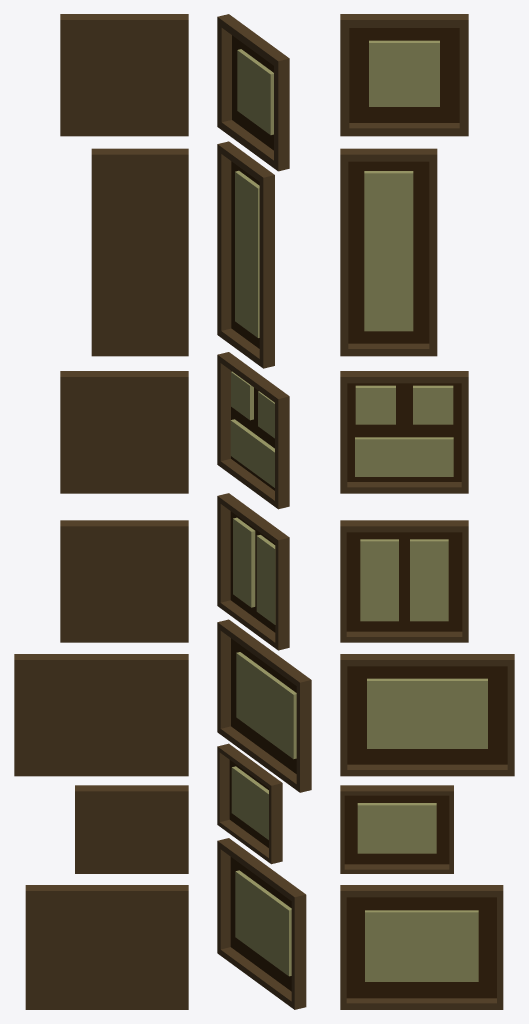
Rendered from PhotoGallery.fbx.
3 renders of one model, left to right at view 1: azimuth 90°, elevation 25°; view 2: azimuth 210°, elevation 25°; view 3: azimuth 270°, elevation 25°, orthographic. The views are drawn at different scales.
Visible parts, largest first — view 1: Cube, Cube.002, Cube.011, Cube.001, Cube.010, Cube.012, Cube.003; view 2: Cube.011, Cube, Cube.002, Cube.012, Cube.001, Cube.010, Cube.003; view 3: Cube, Cube.002, Cube.011, Cube.001, Cube.010, Cube.012, Cube.003.
Boxes of the visible parts, x1,y1,x2,y2 form: Cube: (14,654,188,776); Cube.002: (25,885,188,1009); Cube.011: (91,148,188,356); Cube.001: (60,520,188,642); Cube.010: (60,371,188,493); Cube.012: (60,14,188,136); Cube.003: (75,785,188,873); Cube.011: (217,141,274,368); Cube: (217,619,311,792); Cube.002: (217,838,306,1009); Cube.012: (217,14,289,171); Cube.001: (217,493,289,650); Cube.010: (217,352,289,509); Cube.003: (217,743,282,864); Cube: (340,654,514,776); Cube.002: (340,885,503,1009); Cube.011: (340,148,437,356); Cube.001: (340,520,468,642); Cube.010: (340,371,468,493); Cube.012: (340,14,468,136); Cube.003: (340,785,453,873).
Bounding box in the file's own units: 21.8 × 1700 × 272.
